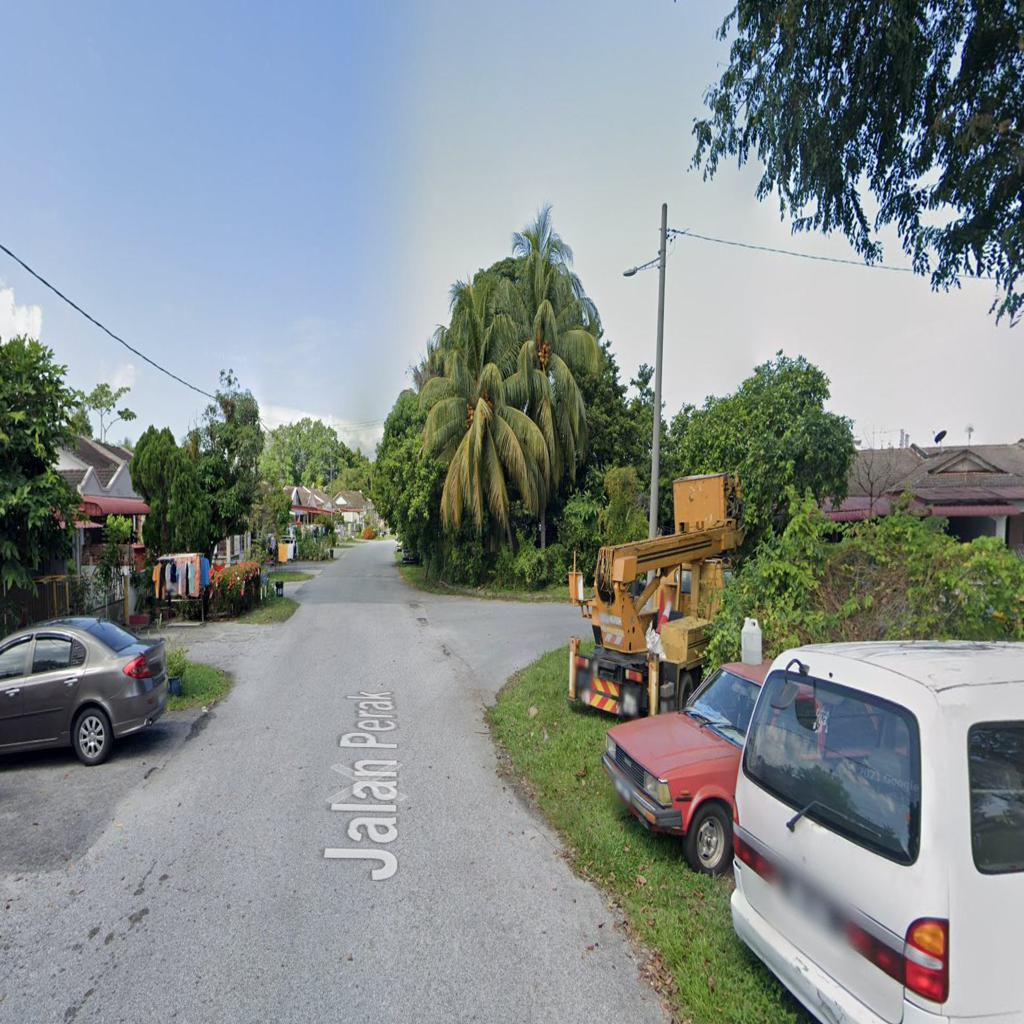Junction: (407, 567, 576, 707)
